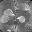people: (3, 8, 15, 16), (0, 15, 11, 23), (17, 16, 25, 23)
